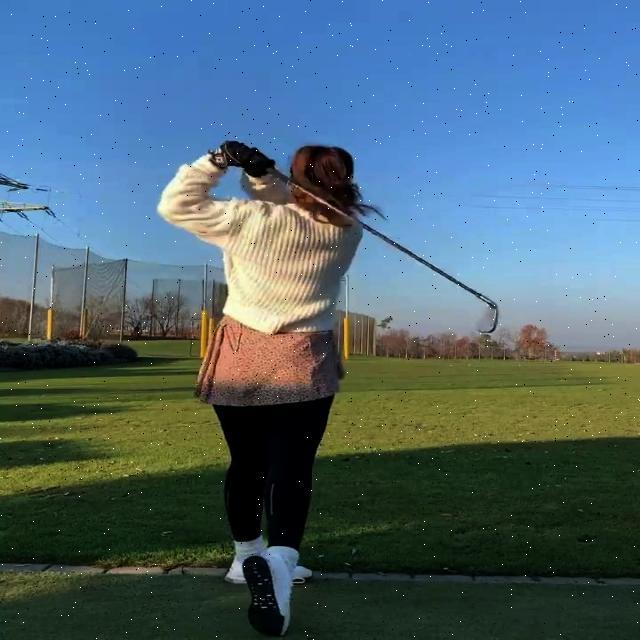ClubHandle: (259, 161, 501, 337)
ClubHead: (474, 302, 498, 335)
